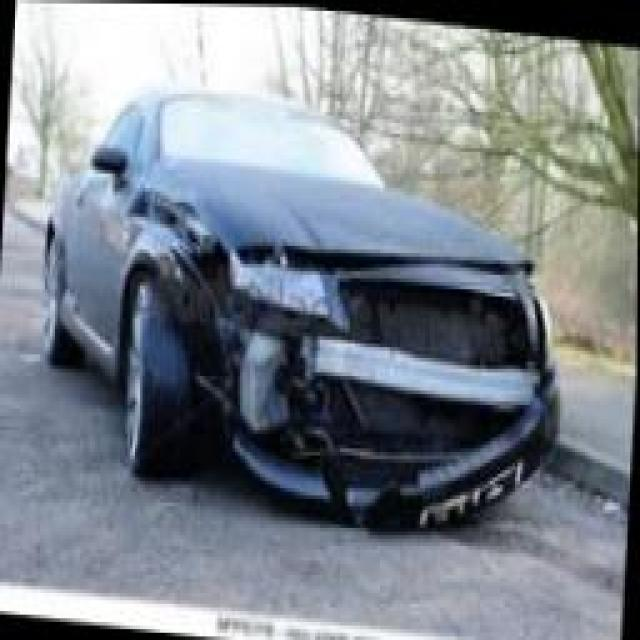Bumper: (227, 319, 578, 544)
Fender: (115, 174, 207, 295)
